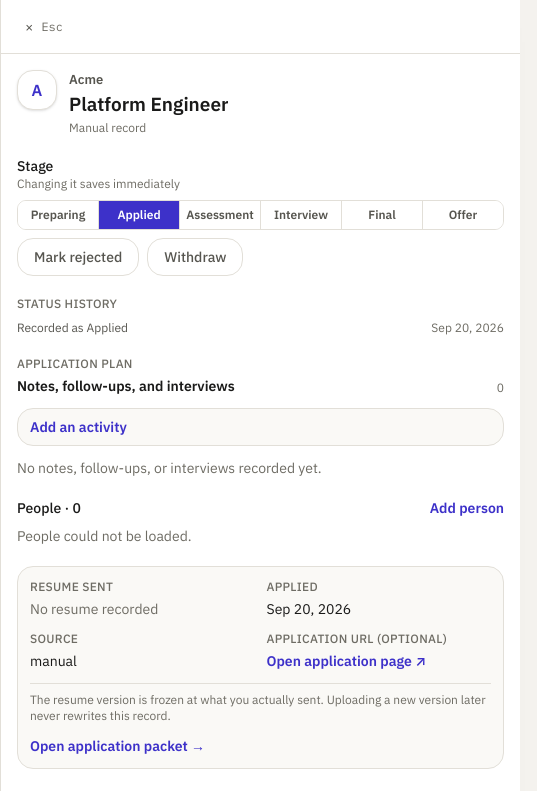
Test: FocusPanel — application flavour › changes stage optimistically and reverts on failure
Expected: the heading "Platform Engineer" is shown, [69,90,228,118]
Step 1. Click the button "Interview" → (302, 215), box [261,201,342,229]
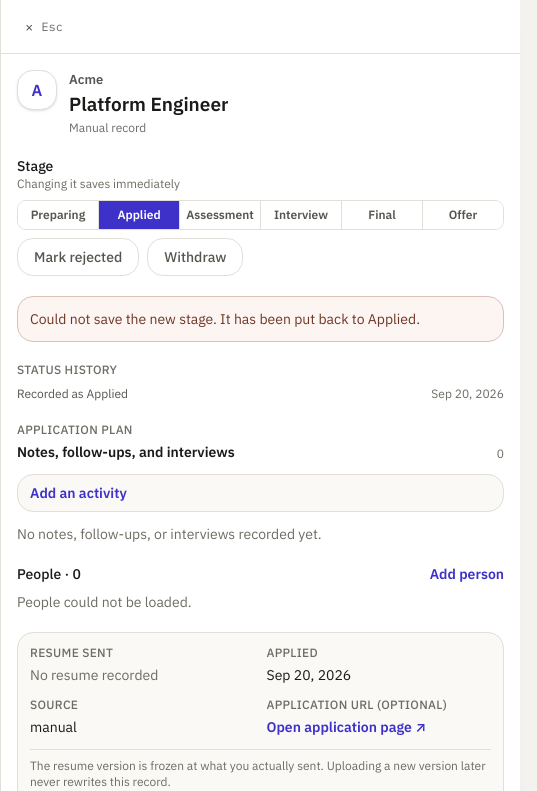
Result: the text "Could not save the new stage. It has been put back to Applied." is shown at [17,296,504,342]
